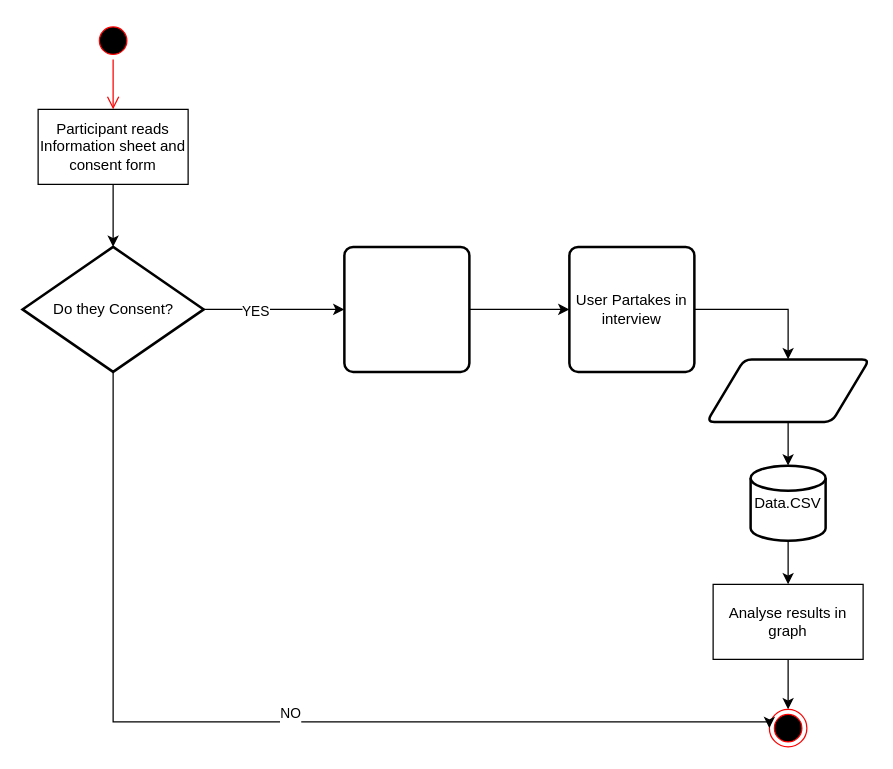
The diagram is 893 pixels wide and 769 high, and some of its shapes have lost their labels. The centre of each missing label's shape, as x and y in pixels:
"Time Played And Interview" goes at point (787, 390).
"User plays game for half an hour or until the request to stop." goes at point (406, 308).
